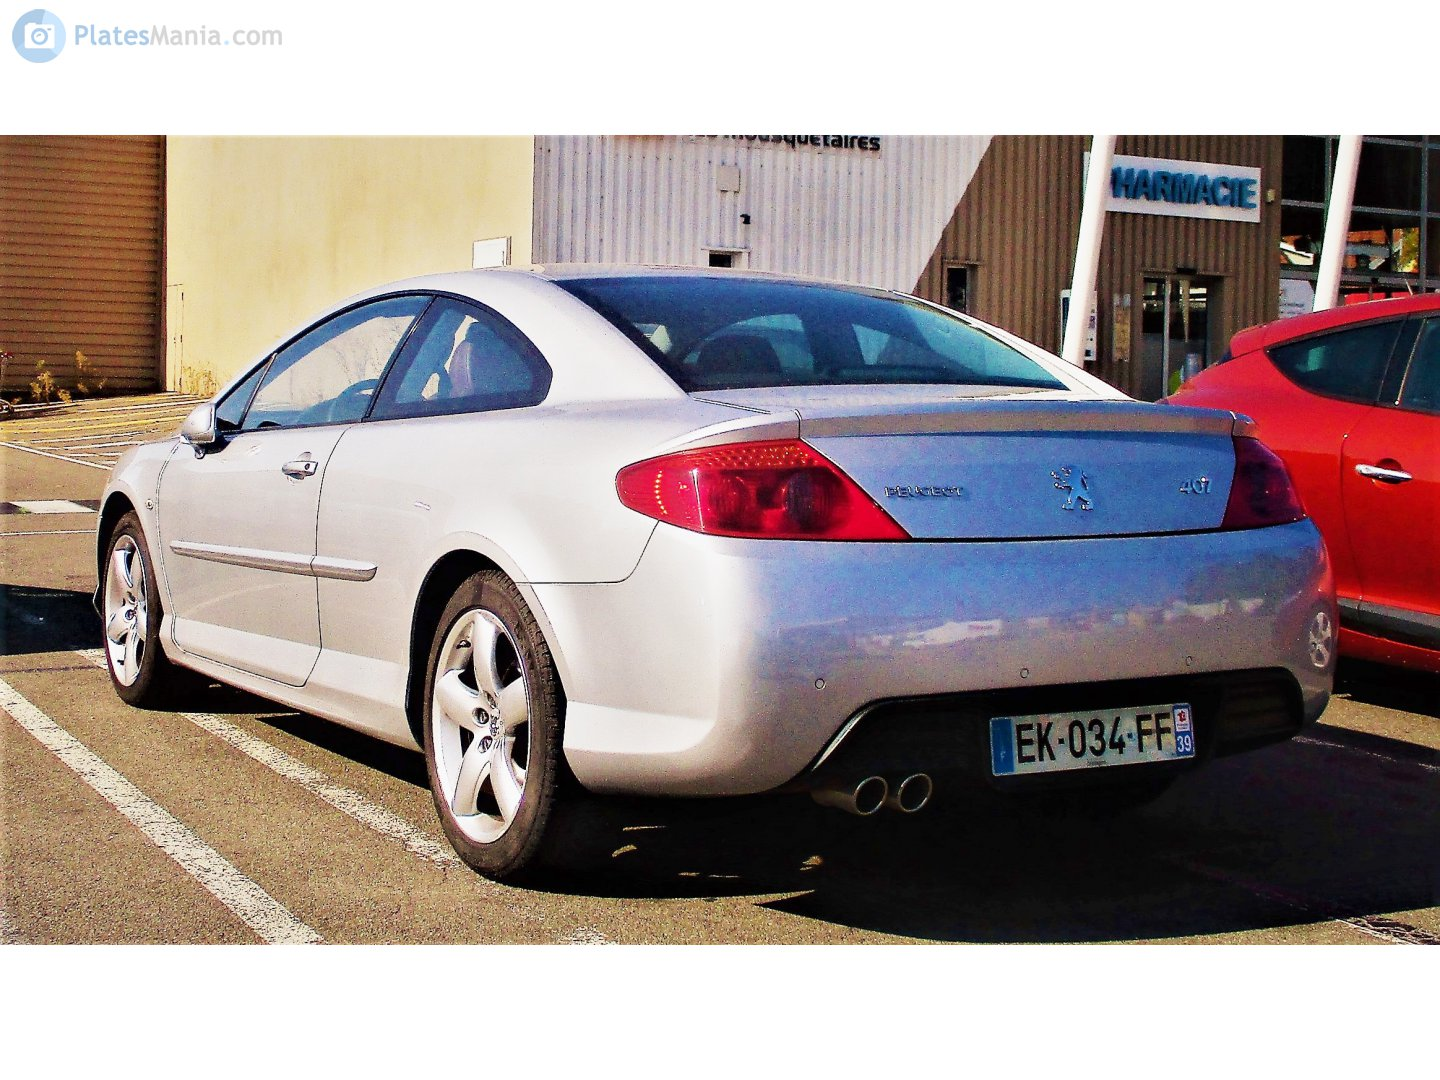licence plate: (984, 701, 1202, 782)
